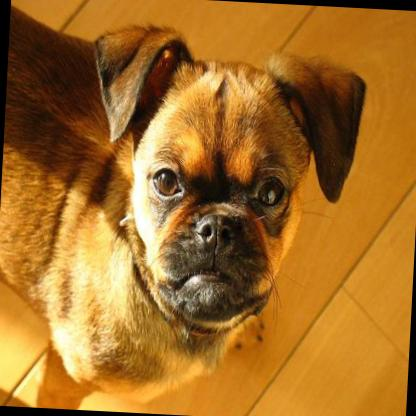Brabancon_griffon: (0, 2, 370, 412)
